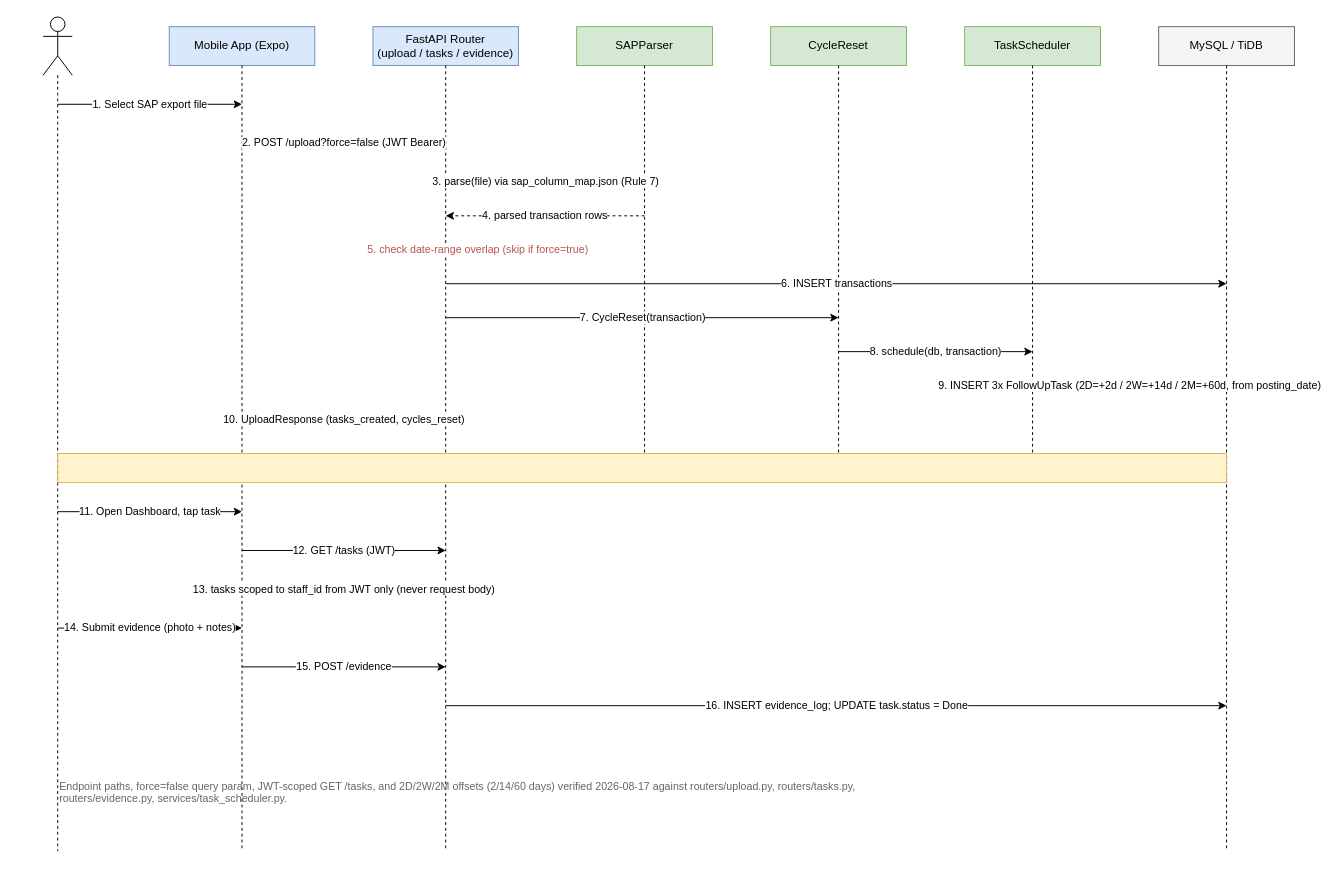
The diagram is 1338 pixels wide and 869 high, and some of its shapes have lost their labels. The shapes that lost their labels are listed below. From the top down, each one's box as (x1, y1, x2, y2) in pixels, then its label:
(42, 16, 72, 75): Sales Associate
(57, 453, 1227, 483): Later — associate closes a task
